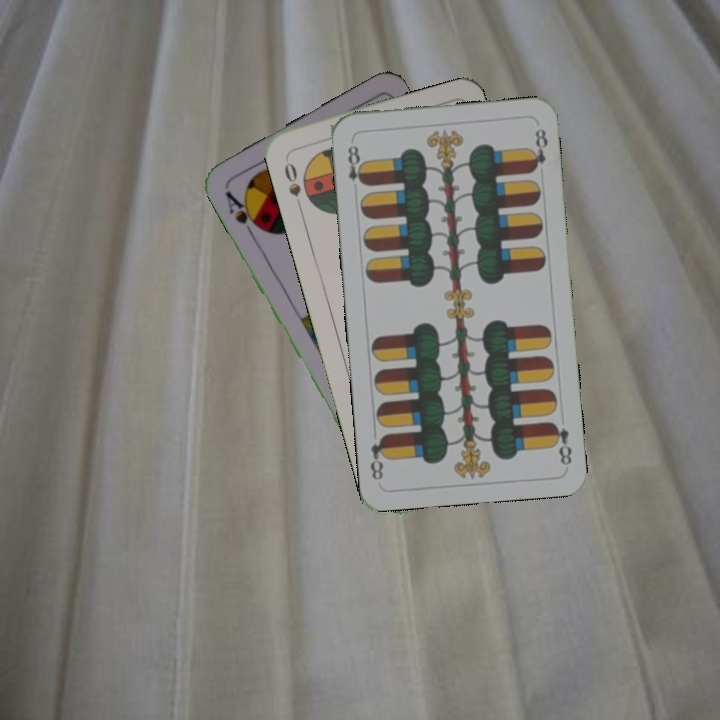E8: (547, 418, 575, 468), (343, 141, 368, 188)
SA: (221, 187, 265, 239)
SO: (280, 153, 305, 211)
